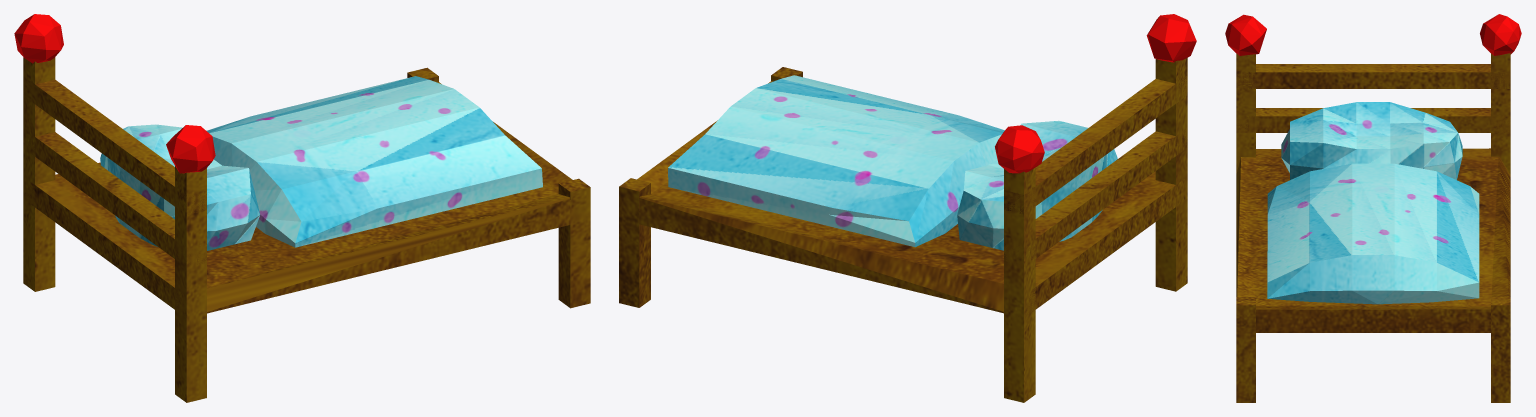
The model's file is Bett.fbx.
The picture shows the model from 3 angles, left to right: view 1: azimuth 30°, elevation 25°; view 2: azimuth 150°, elevation 25°; view 3: azimuth 270°, elevation 25°; orthographic projection. The views are drawn at different scales.
Parts seen in each view (by area): view 1: Würfel; view 2: Würfel; view 3: Würfel.
Boxes of the visible parts, x1,y1,x2,y2 form: Würfel: (14,14,590,402); Würfel: (619,14,1196,402); Würfel: (1225,14,1521,402).
Size of the model in its own units: 206 by 127 by 151.
